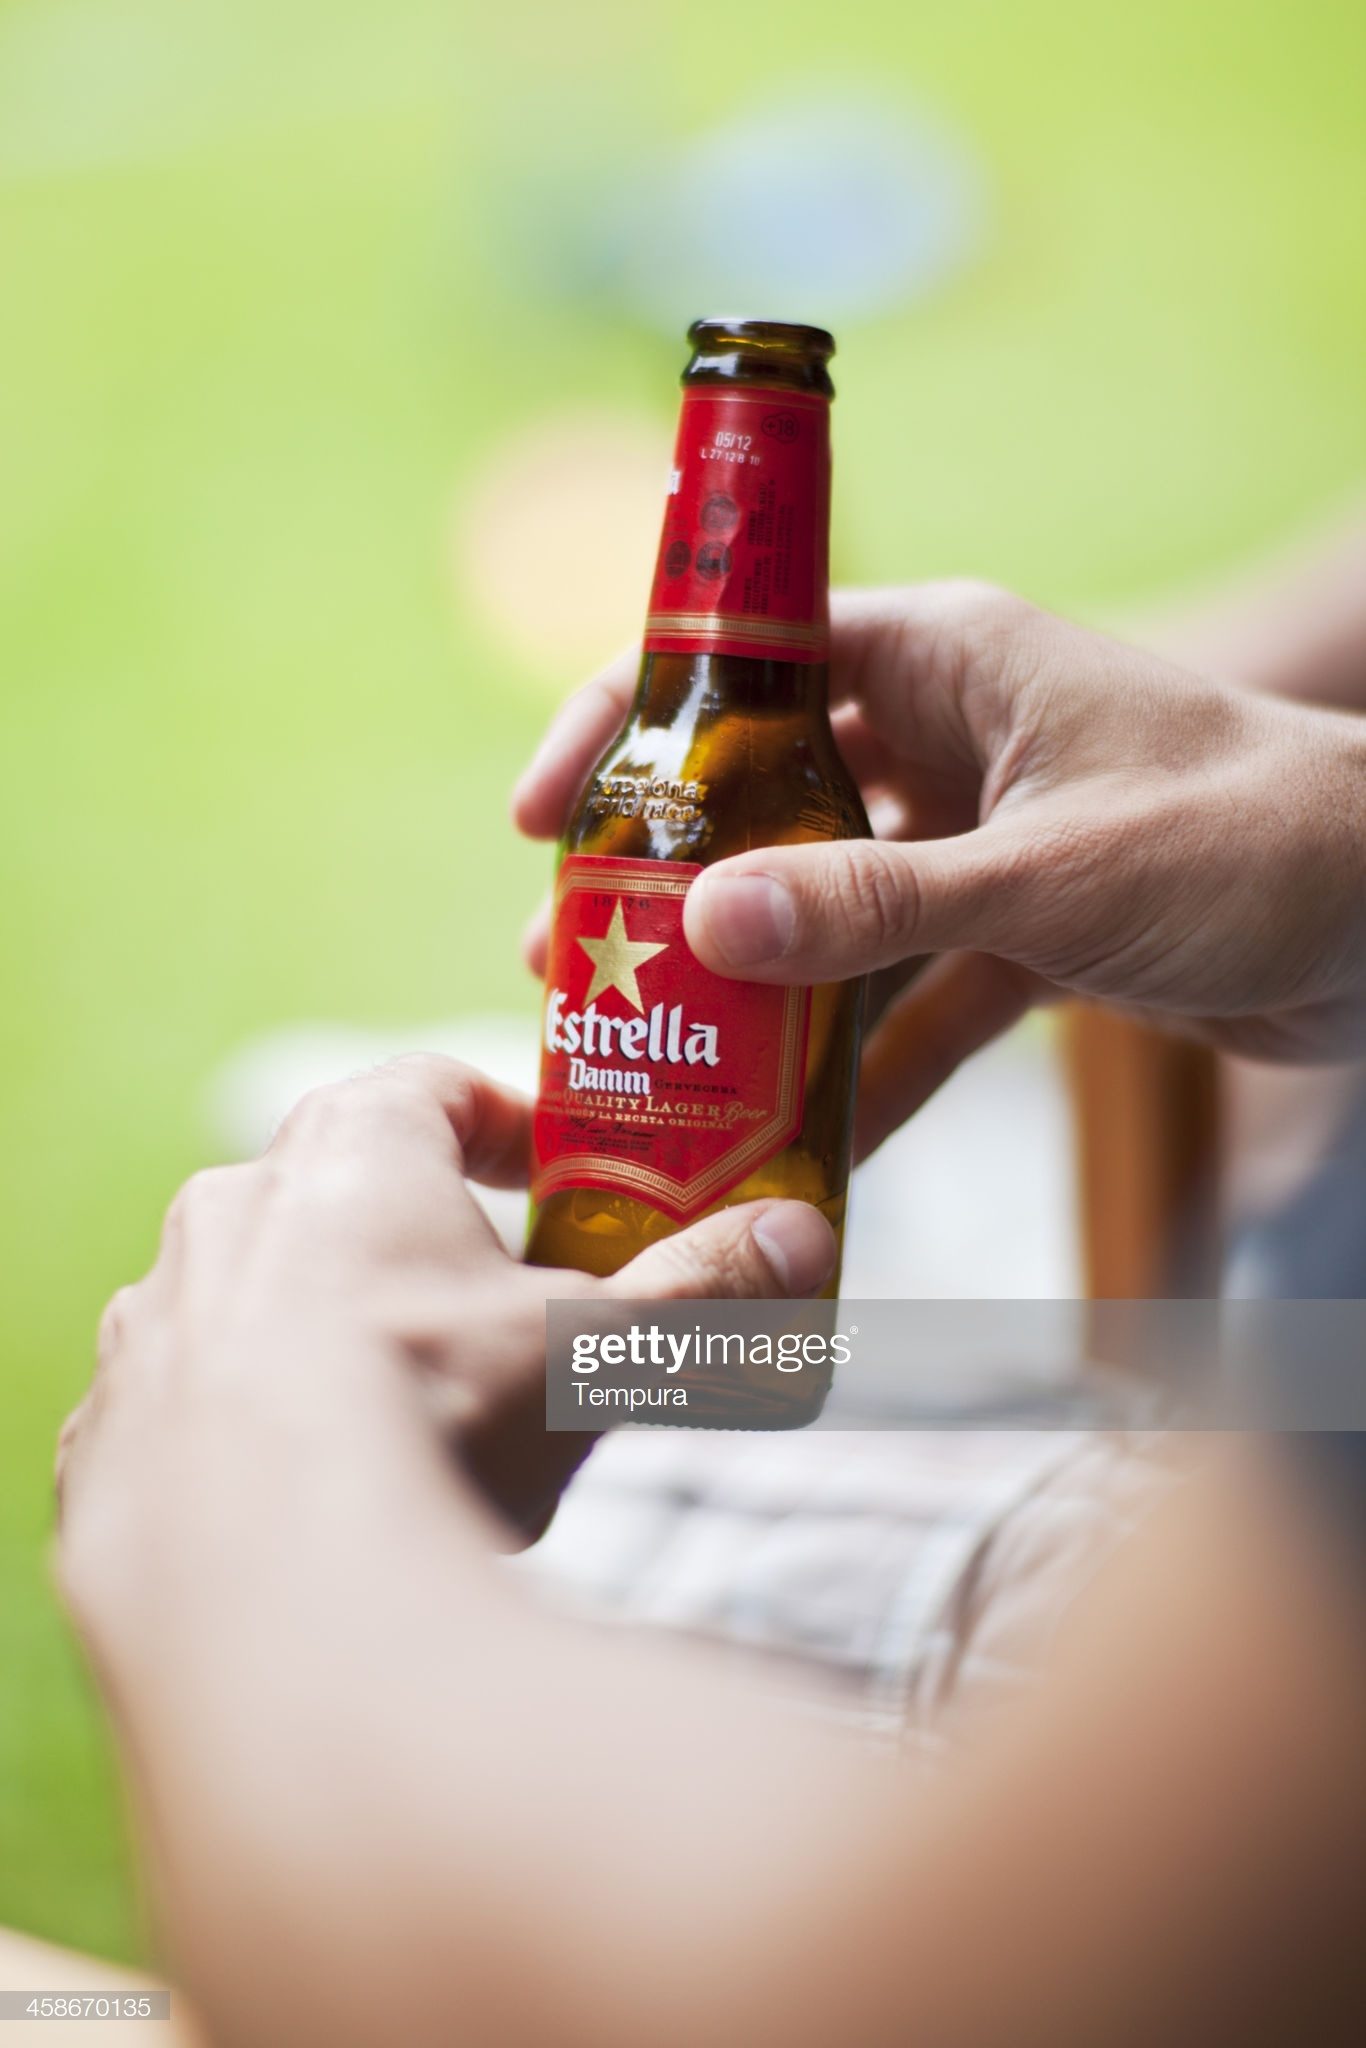beerBottle: (544, 317, 861, 1420)
